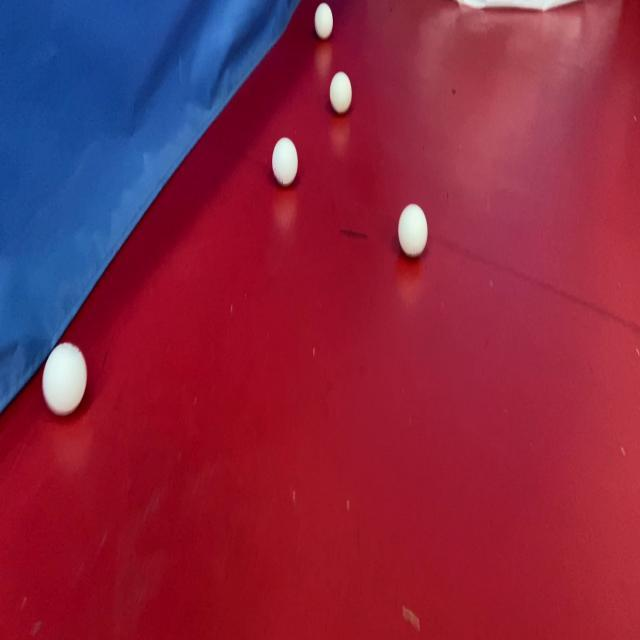ping-pong-ball: (41, 339, 88, 419), (398, 199, 430, 261), (270, 133, 300, 190), (327, 70, 354, 116), (313, 0, 335, 42)
